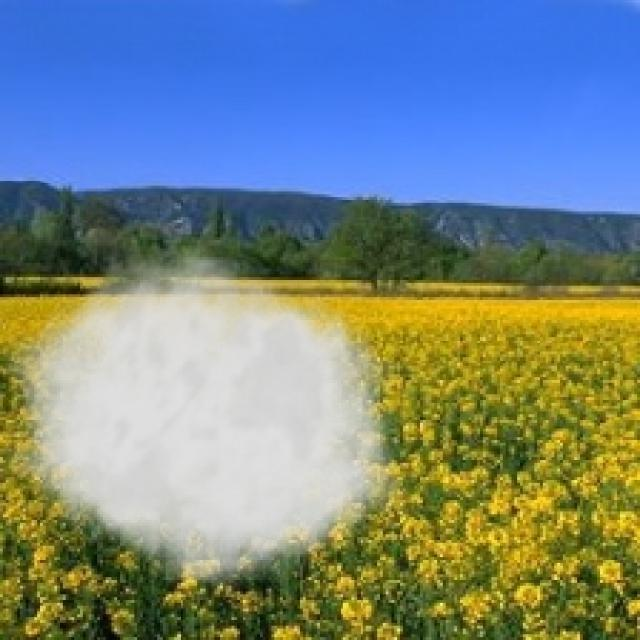Smoke: (2, 237, 414, 597)
